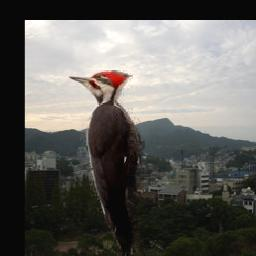Woodpecker: (65, 71, 146, 256)
